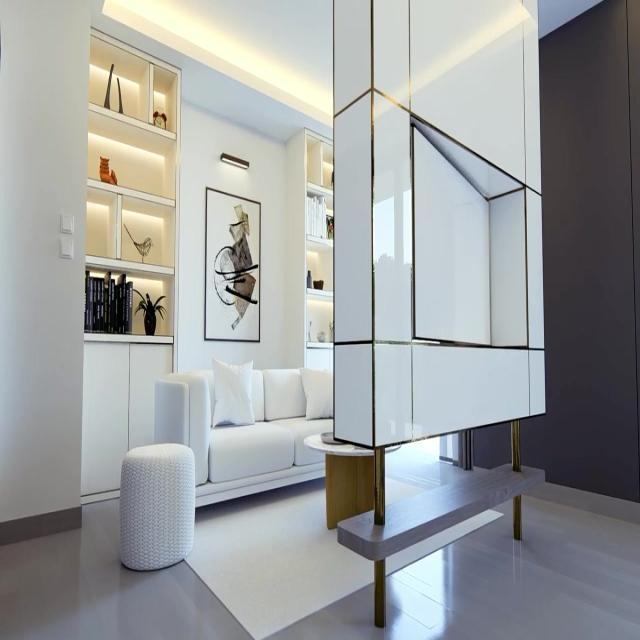obstacle: (153, 366, 334, 508)
